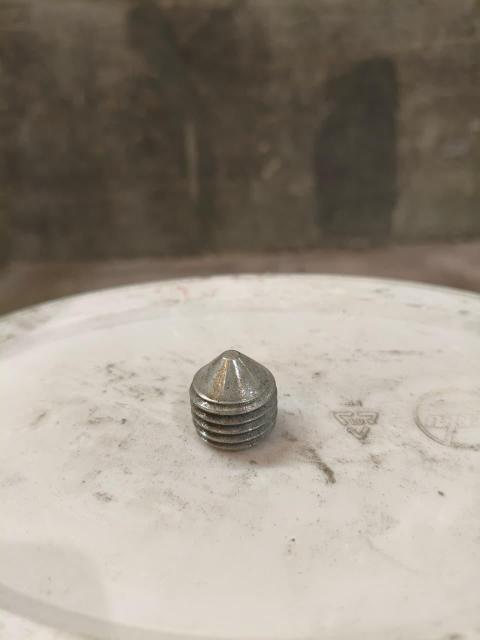Metal: (170, 343, 288, 457)
